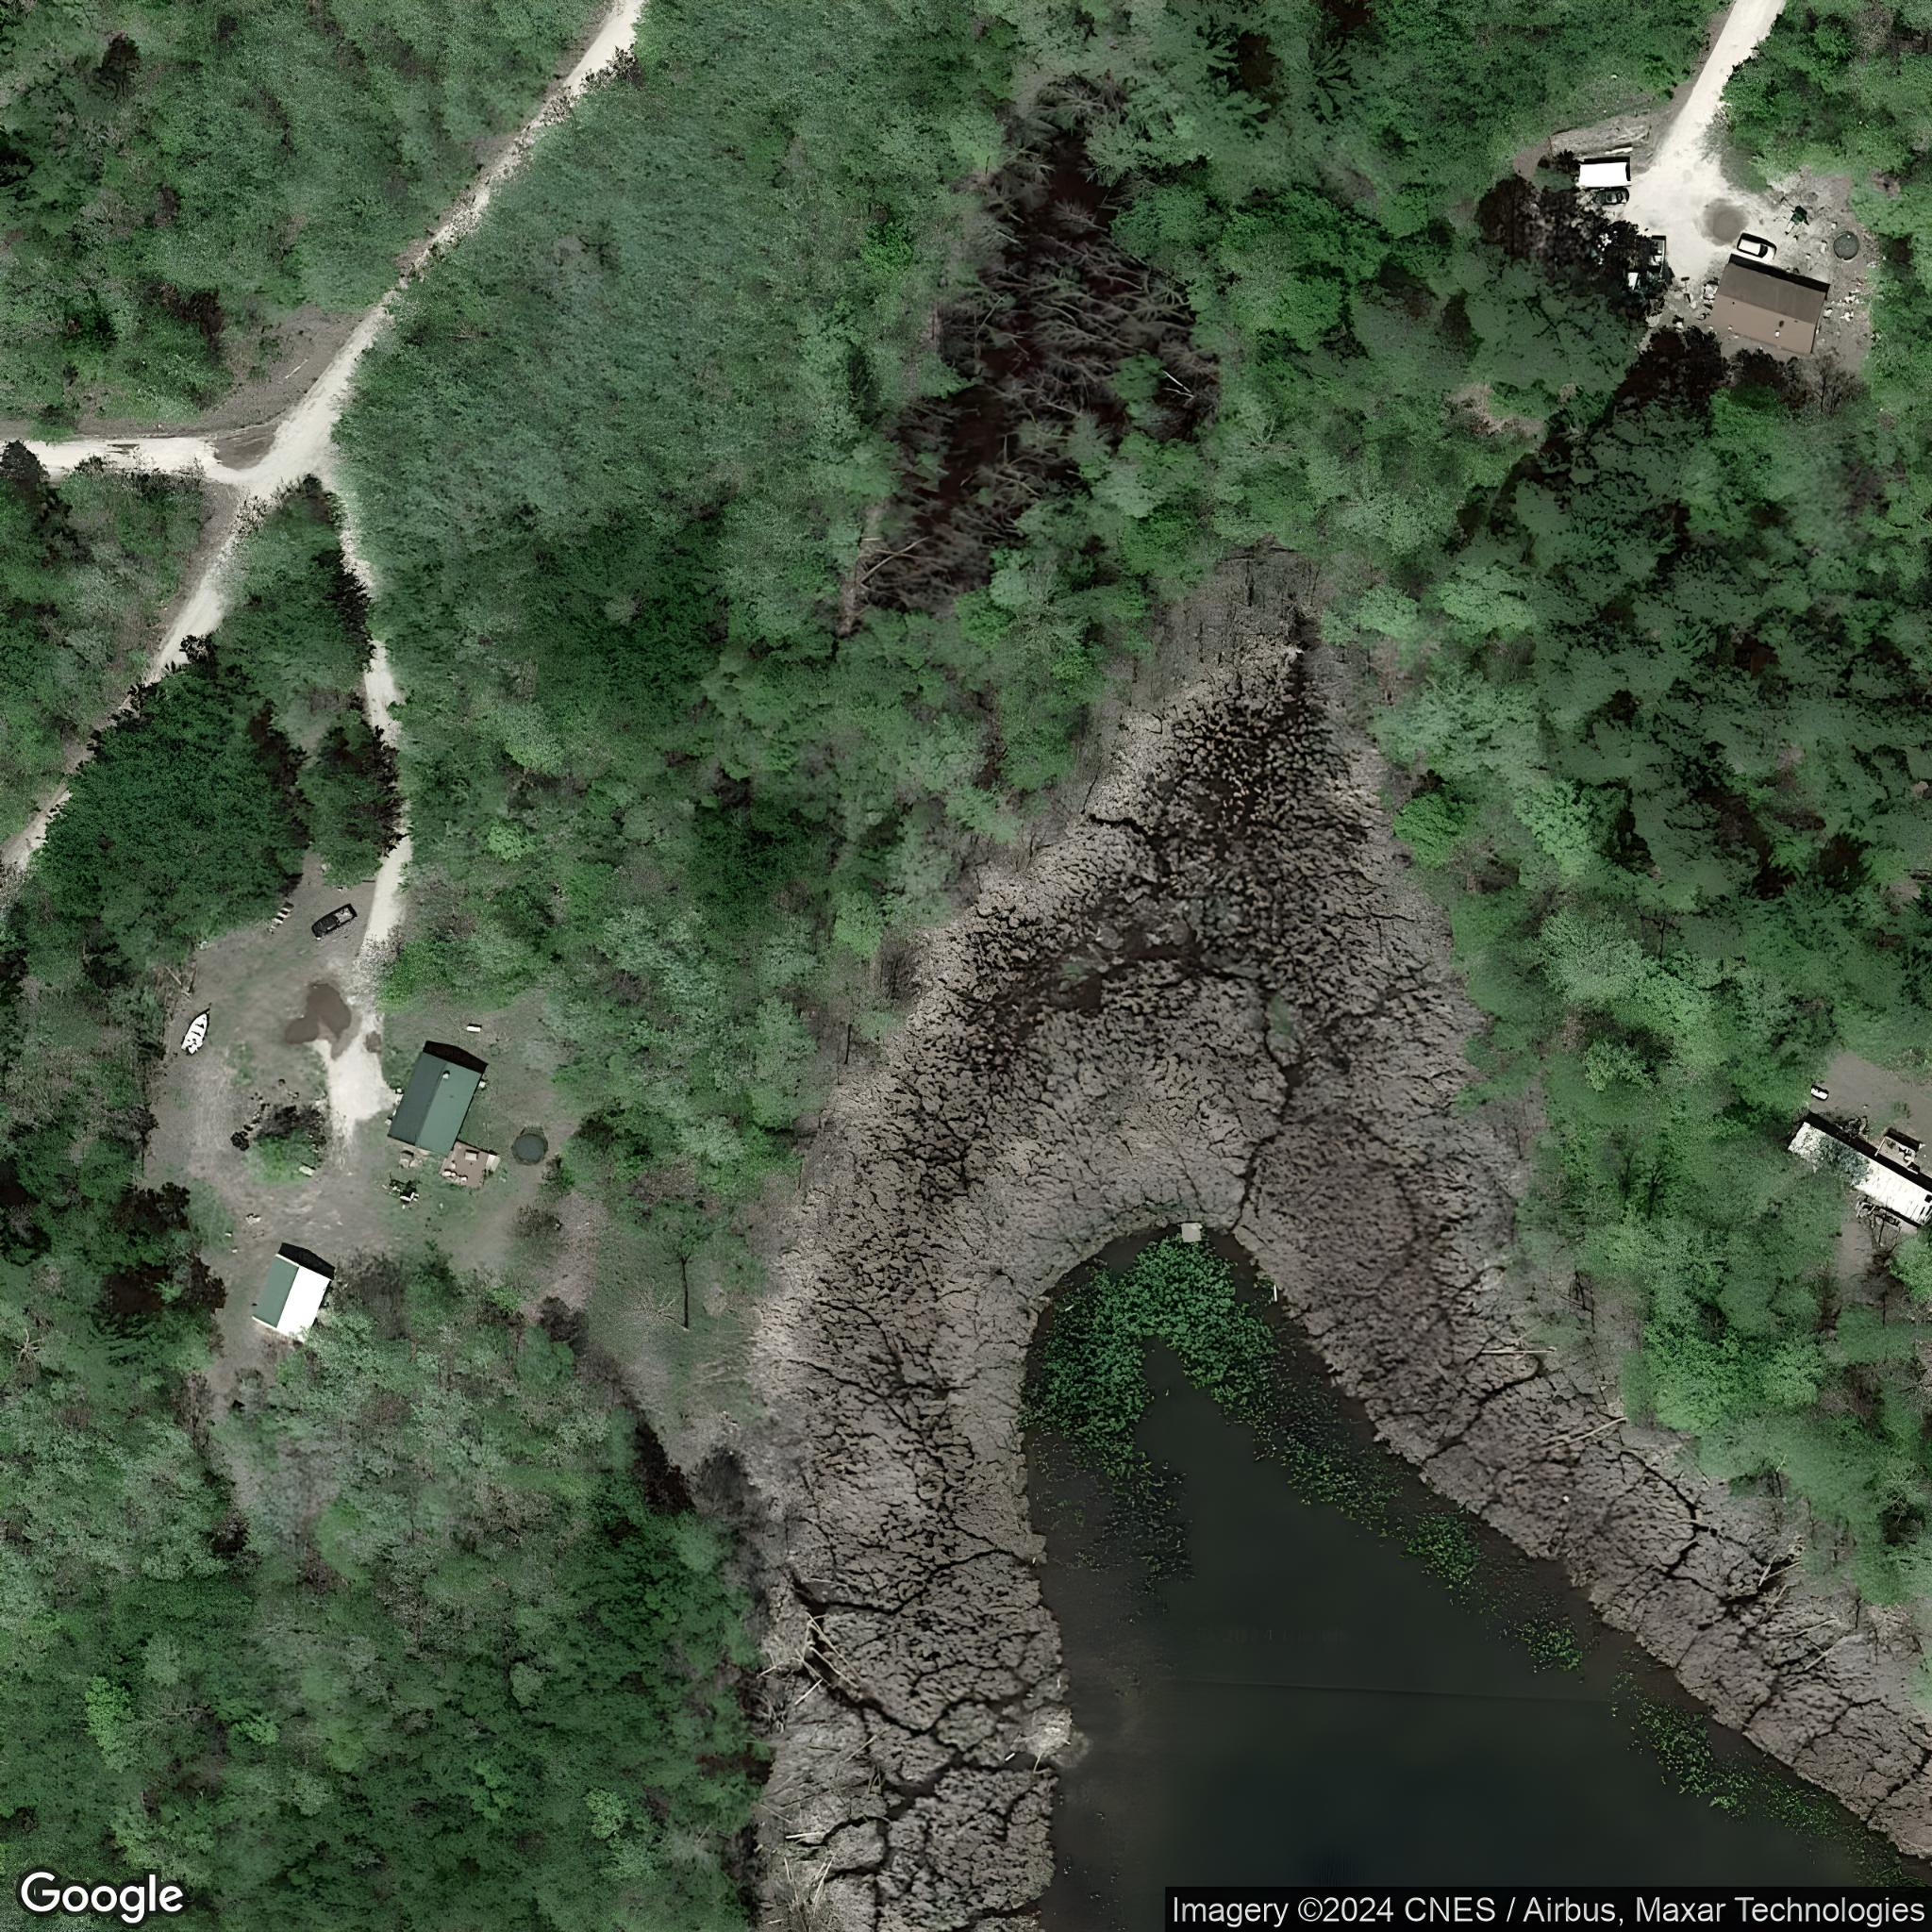Garage: (249, 1251, 333, 1346)
House: (1783, 1120, 1932, 1233), (1706, 262, 1829, 357), (382, 1047, 485, 1161)
Propane: (295, 1161, 322, 1180), (1808, 1083, 1831, 1102), (464, 1023, 485, 1035)
